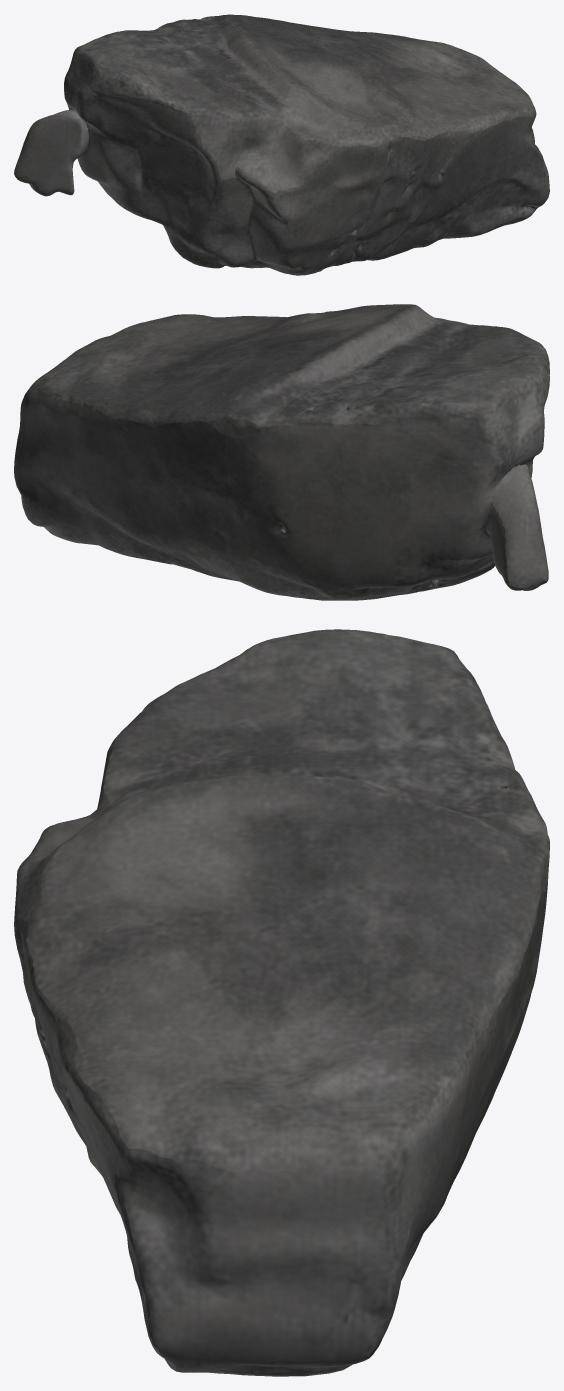
The picture shows the model from 3 angles, top to bottom: view 1: azimuth 30°, elevation 25°; view 2: azimuth 150°, elevation 25°; view 3: azimuth 270°, elevation 25°; orthographic projection. The views are drawn at different scales.
Visible parts, largest first — view 1: world; view 2: world; view 3: world.
Part boxes in pixels (left/top/right/bottom): world: left=14, top=14, right=549, bottom=275; world: left=14, top=304, right=549, bottom=600; world: left=14, top=629, right=549, bottom=1376.
Size of the model in its own units: 3.5 by 1.64 by 1.95.
1 material, 1 textured.
